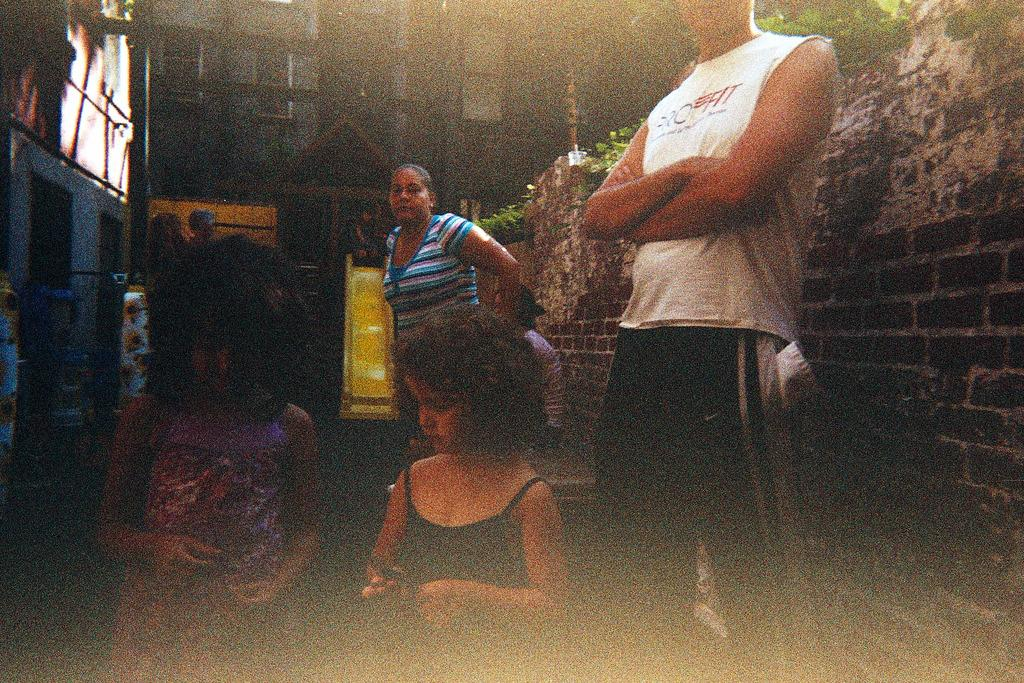Sem Máscara: (406, 376, 465, 451), (384, 166, 424, 219)
